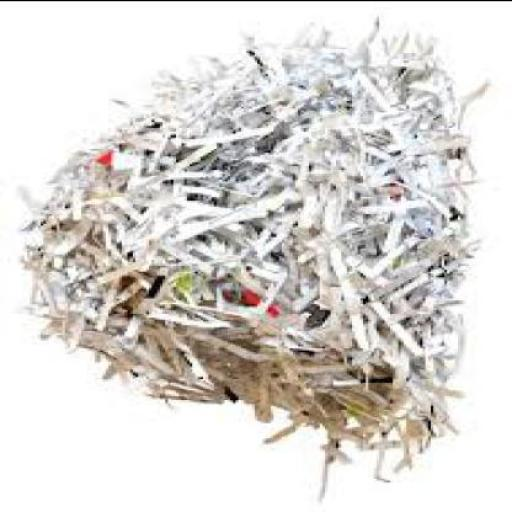paper: (11, 18, 483, 500)
